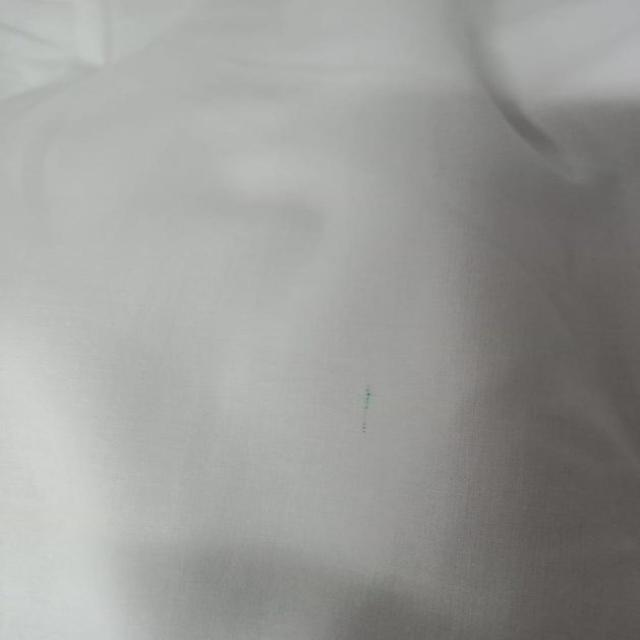contamination: (354, 374, 381, 445)
